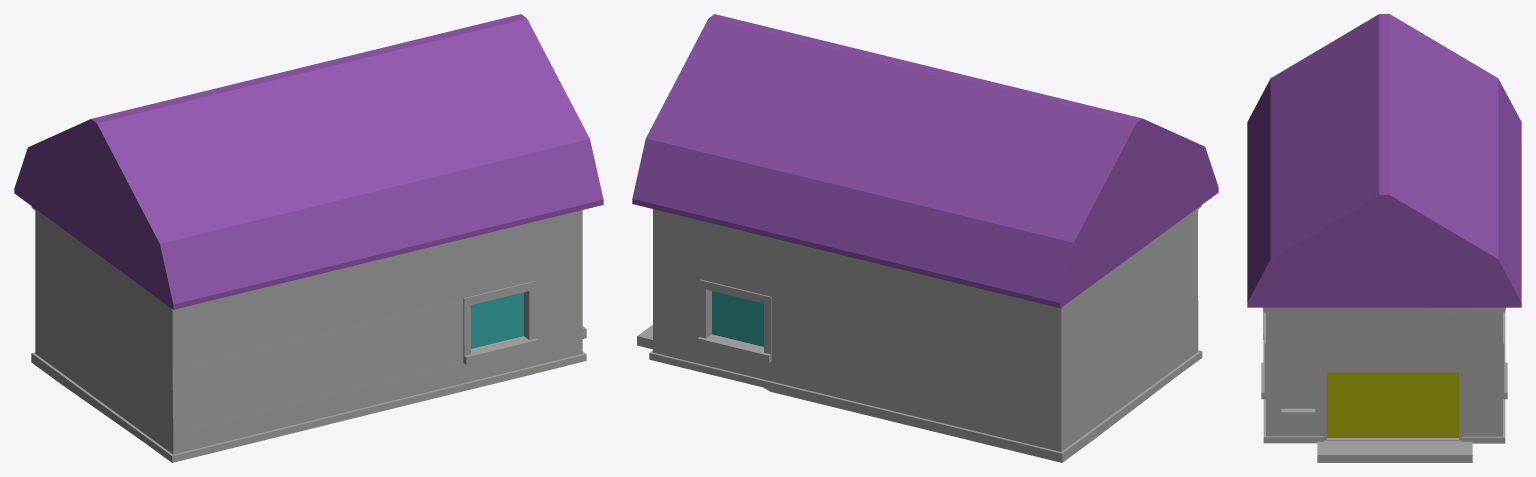
Rendered from Barn_01.fbx.
3 renders of one model, left to right at view 1: azimuth 30°, elevation 25°; view 2: azimuth 150°, elevation 25°; view 3: azimuth 270°, elevation 25°, orthographic. The views are drawn at different scales.
Parts seen in each view (by area): view 1: pCube18; view 2: pCube18; view 3: pCube18.
Boxes of the visible parts, bbox=[...] form: pCube18: bbox=[14, 14, 603, 462]; pCube18: bbox=[632, 14, 1218, 462]; pCube18: bbox=[1247, 14, 1521, 462].
Size of the model in its own units: 1084 by 658 by 683.
